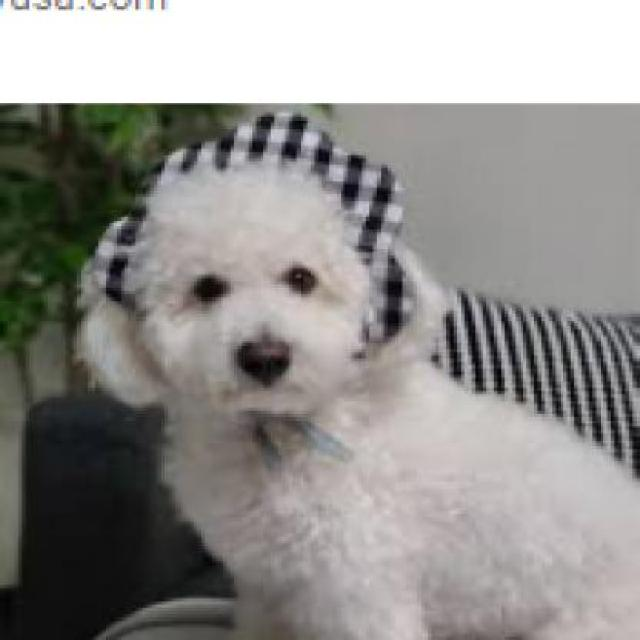Dog: (76, 157, 638, 638)
